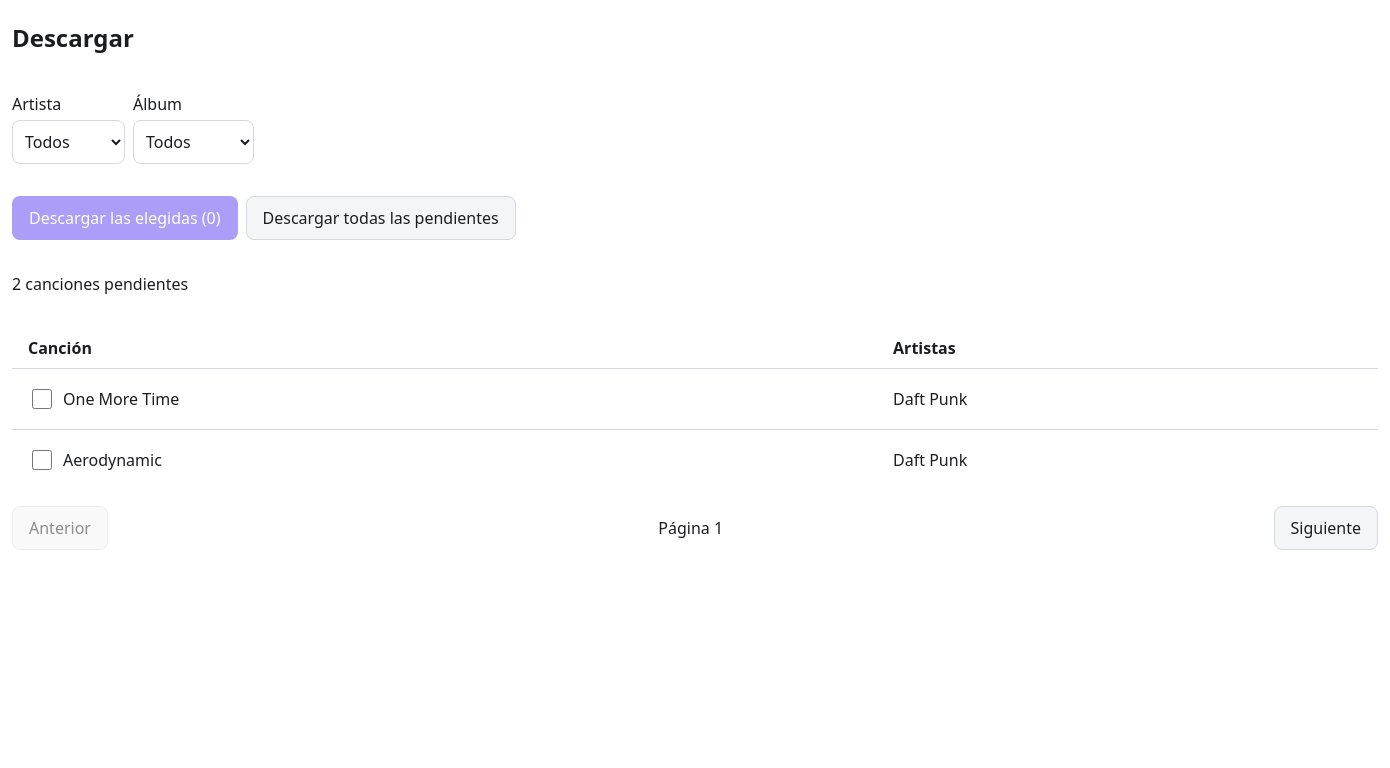
Scenario: DownloadView › quitar una casilla la saca de la selección
The image size is (1390, 768).
Click the checkbox labelled "Aerodynamic" at {"x": 42, "y": 460}, box left=32, top=450, right=52, bottom=470
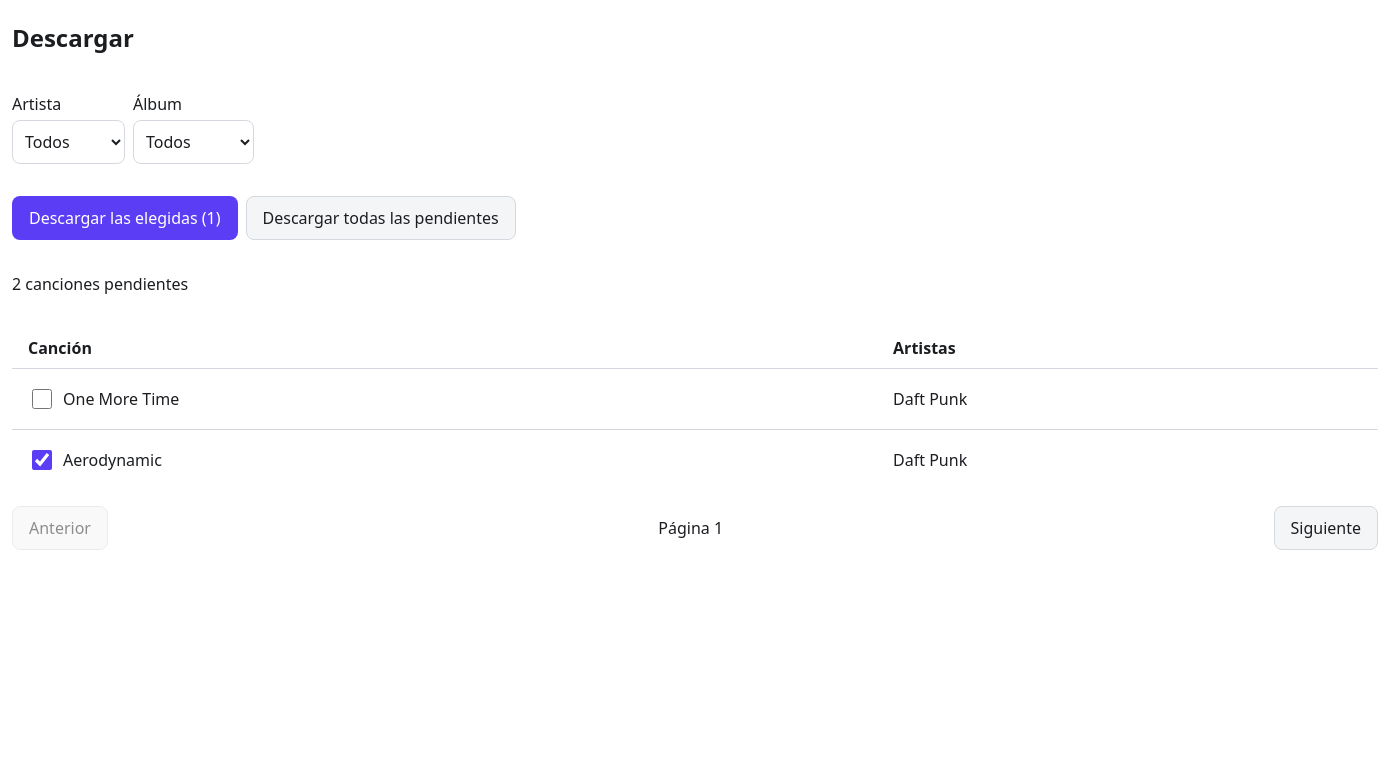
Click the checkbox labelled "Aerodynamic" at {"x": 42, "y": 460}, box left=32, top=450, right=52, bottom=470
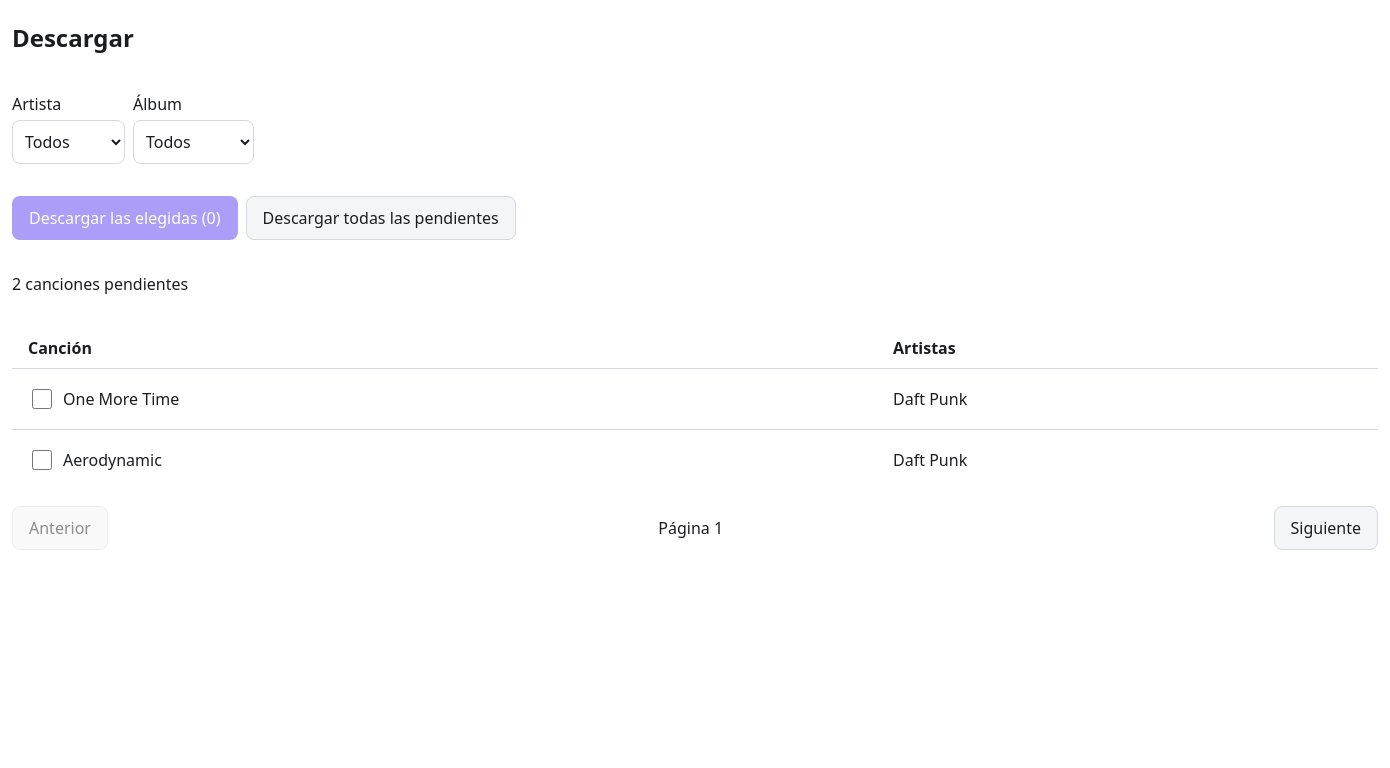
Result: the button "Descargar las elegidas (0)" is disabled at left=12, top=196, right=238, bottom=240
